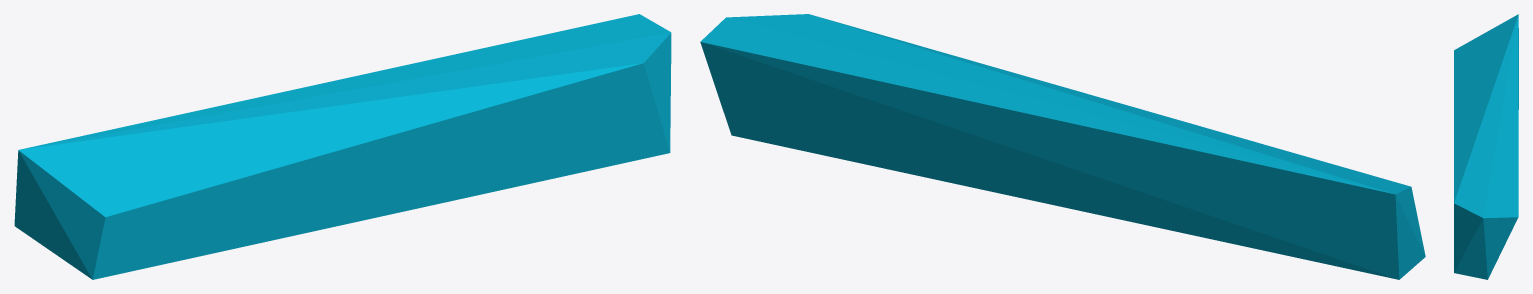
File: garden_table_convex_piece_019.obj
The picture shows the model from 3 angles, left to right: view 1: azimuth 30°, elevation 25°; view 2: azimuth 150°, elevation 25°; view 3: azimuth 270°, elevation 25°; orthographic projection. The views are drawn at different scales.
Size of the model in its own units: 0.2406 by 0.0423 by 0.0337.
